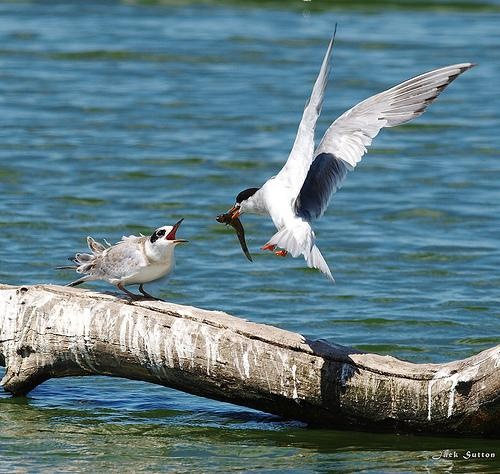bird: (227, 18, 475, 285), (54, 214, 188, 299)
